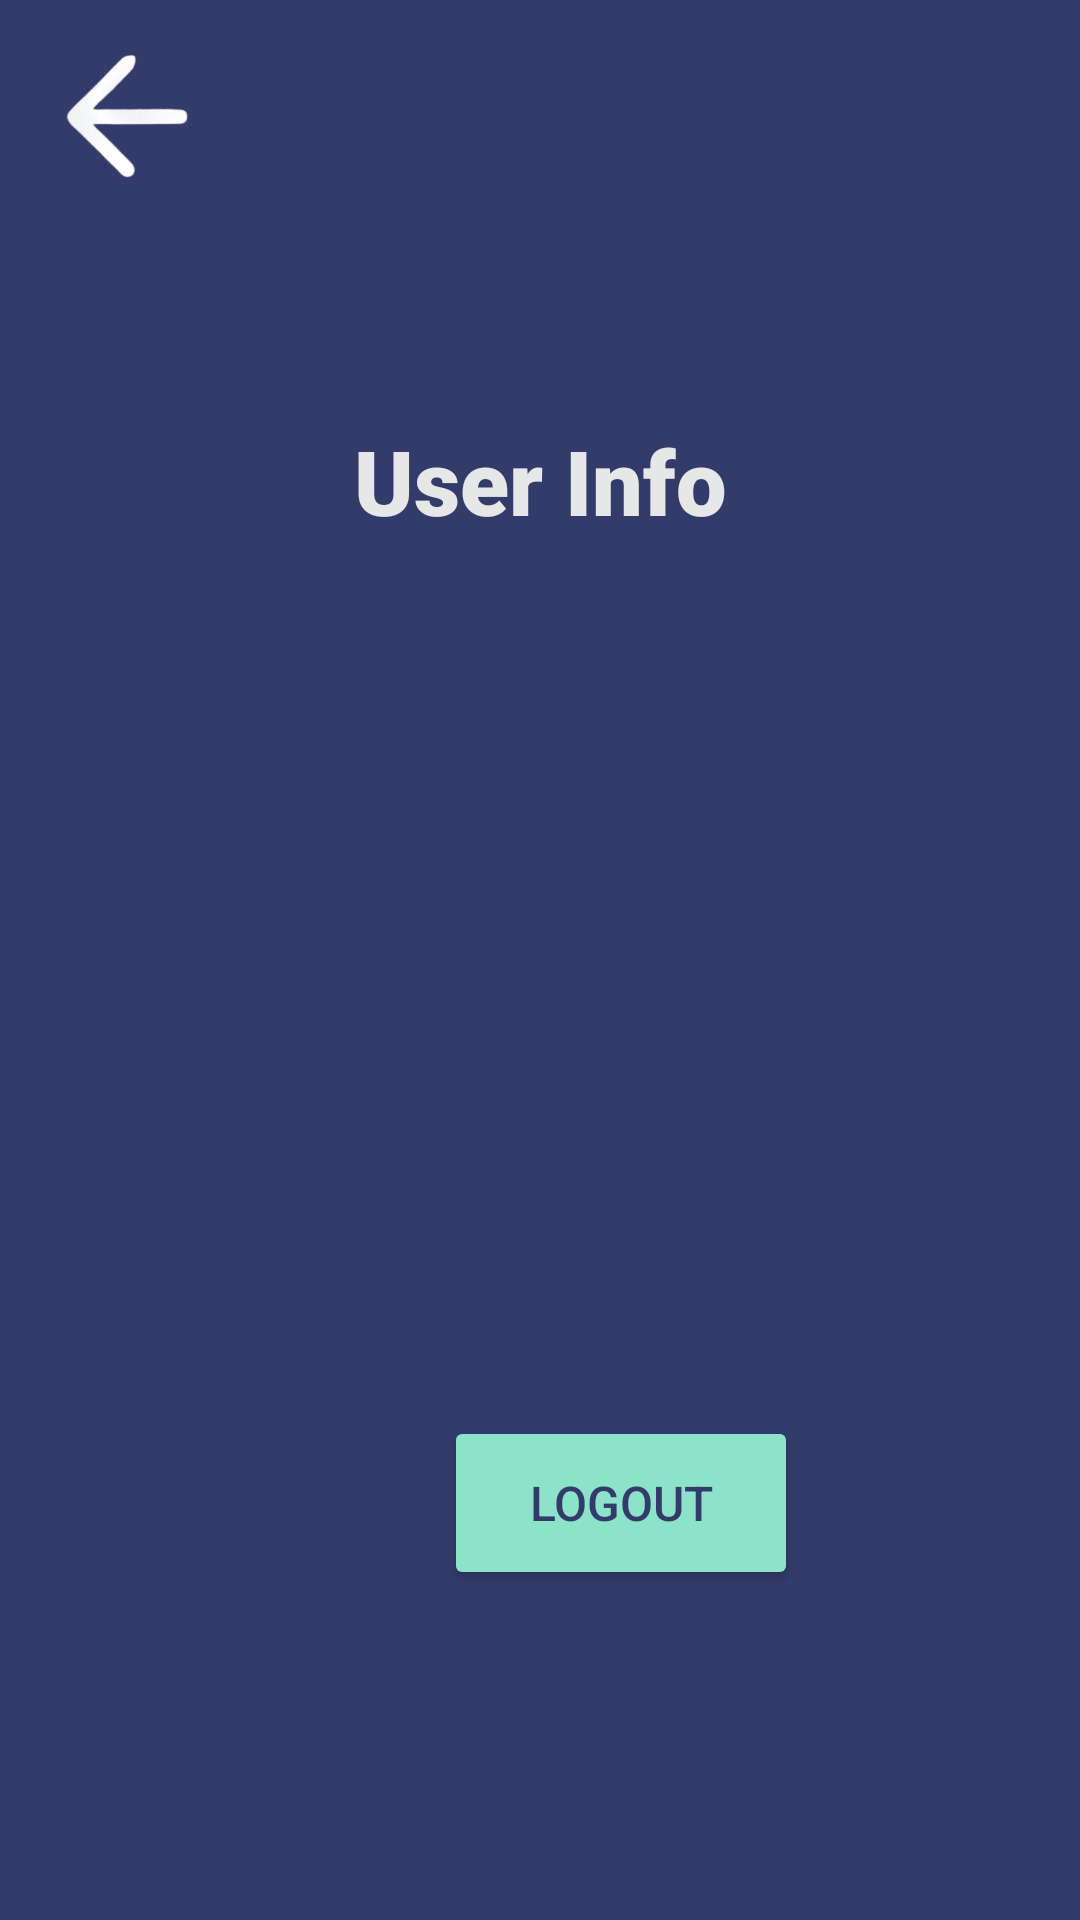

Screen size 1080 × 1920. Icon name, then its box in pixels as [left=x1, top=y1, right=x2, bottom=y2]:
return: [left=67, top=55, right=188, bottom=177]
